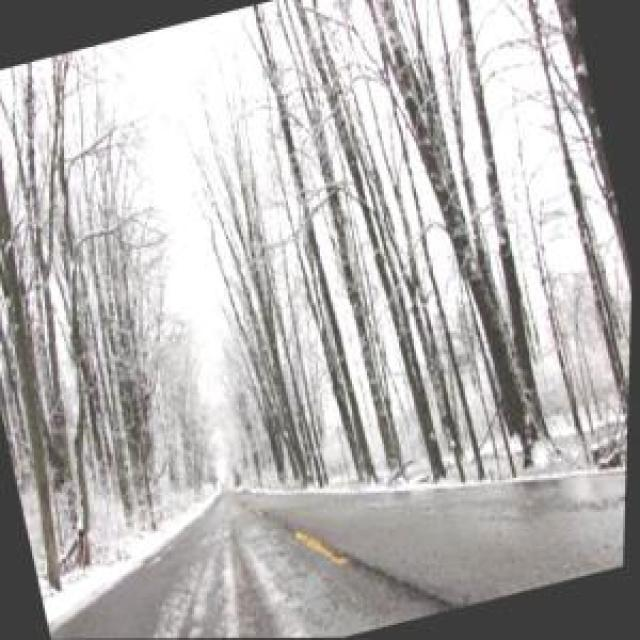ice-road: (54, 468, 629, 640)
